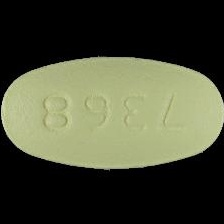54868-6109: (0, 0, 224, 224)
